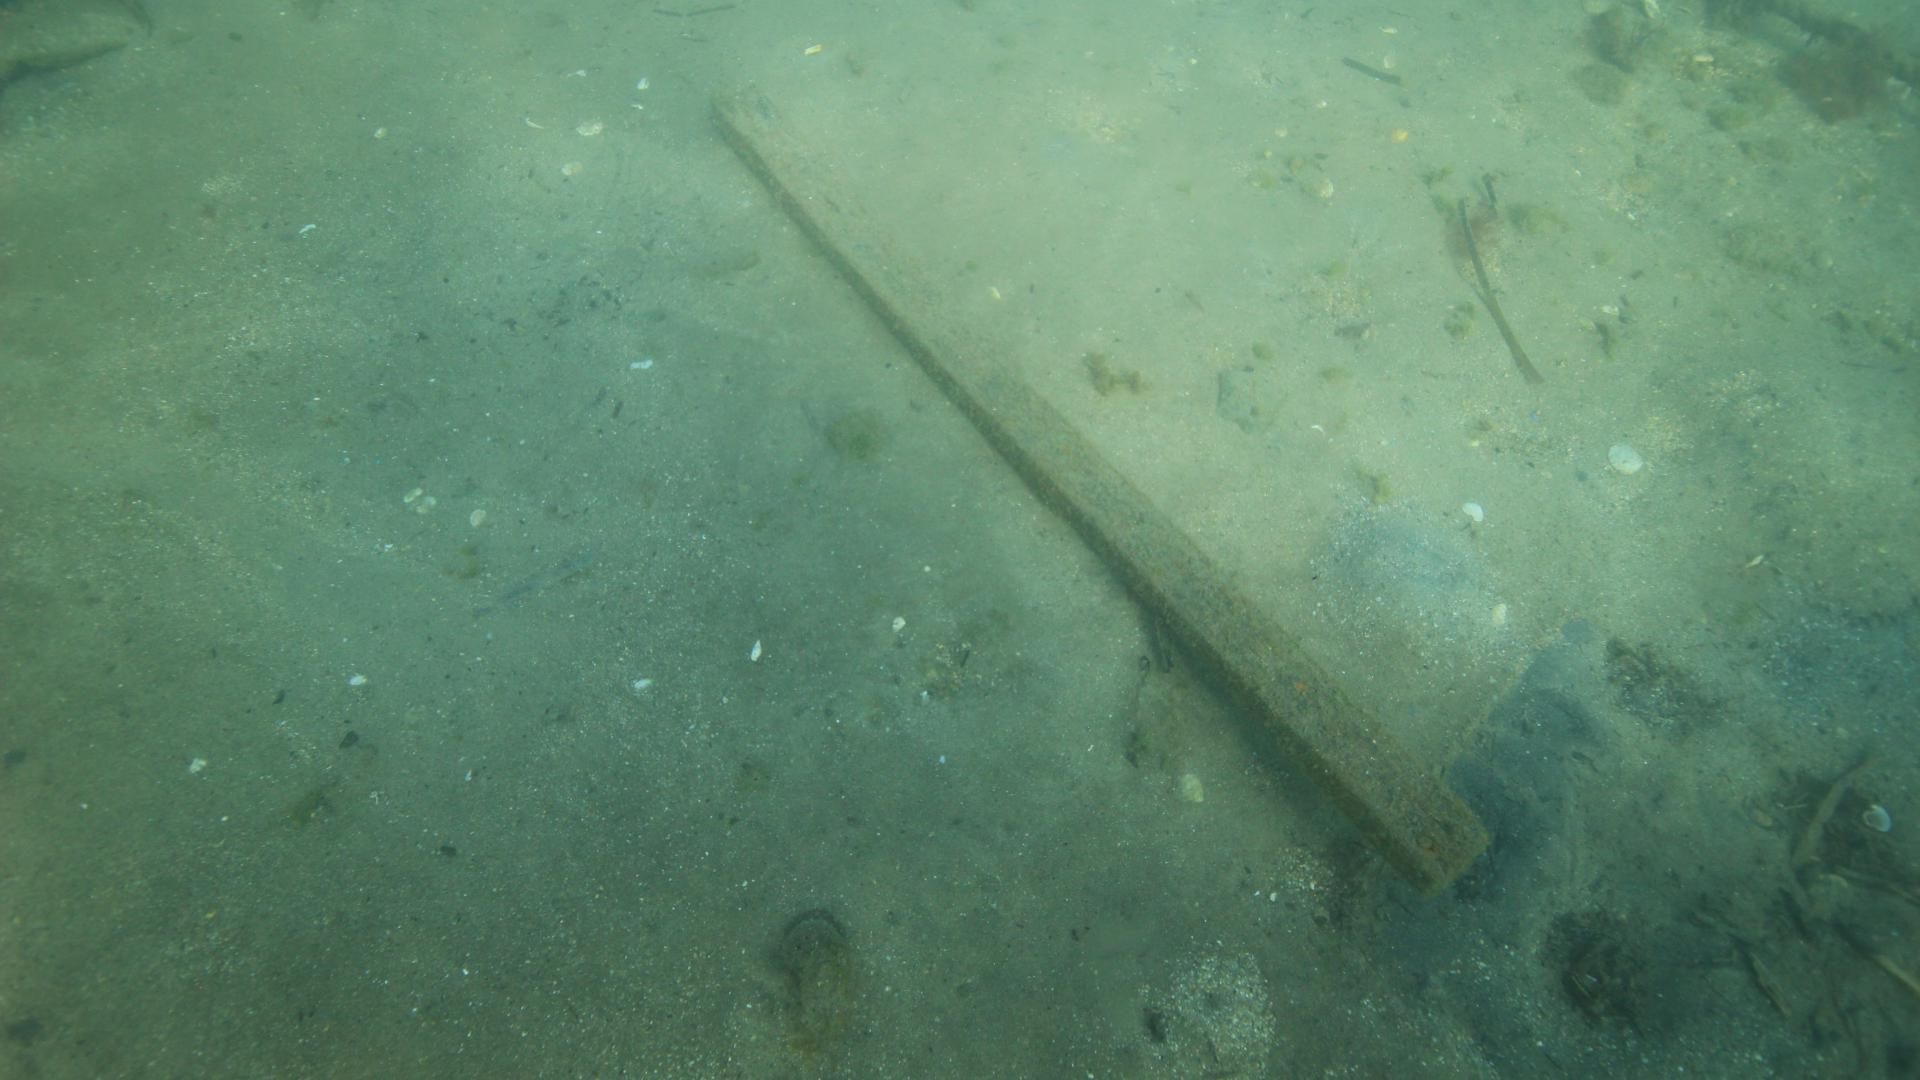wood: (713, 92, 1491, 887)
